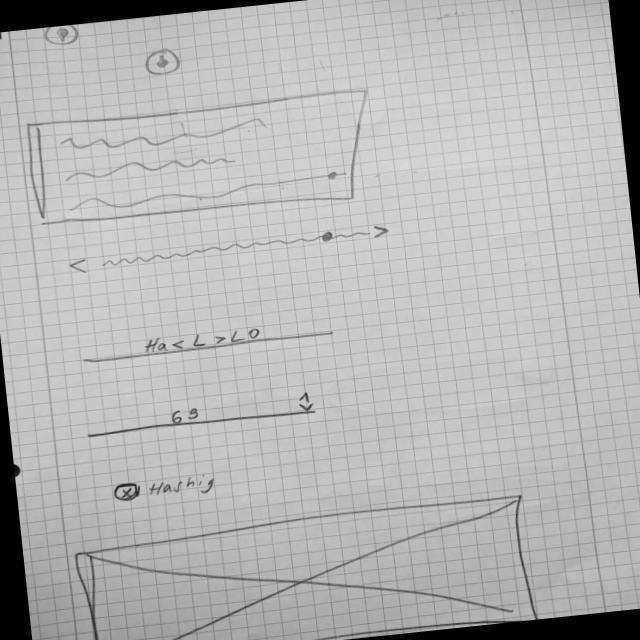icon-button: (140, 45, 187, 80), (42, 25, 84, 49), (111, 480, 145, 505)
image: (68, 491, 542, 640)
input: (78, 315, 339, 368)
label: (147, 471, 221, 503)
link: (66, 219, 396, 278), (171, 330, 230, 351)
number-input: (82, 388, 321, 442)
slider: (68, 166, 350, 215), (98, 226, 372, 270)
textbox: (20, 88, 384, 234)
